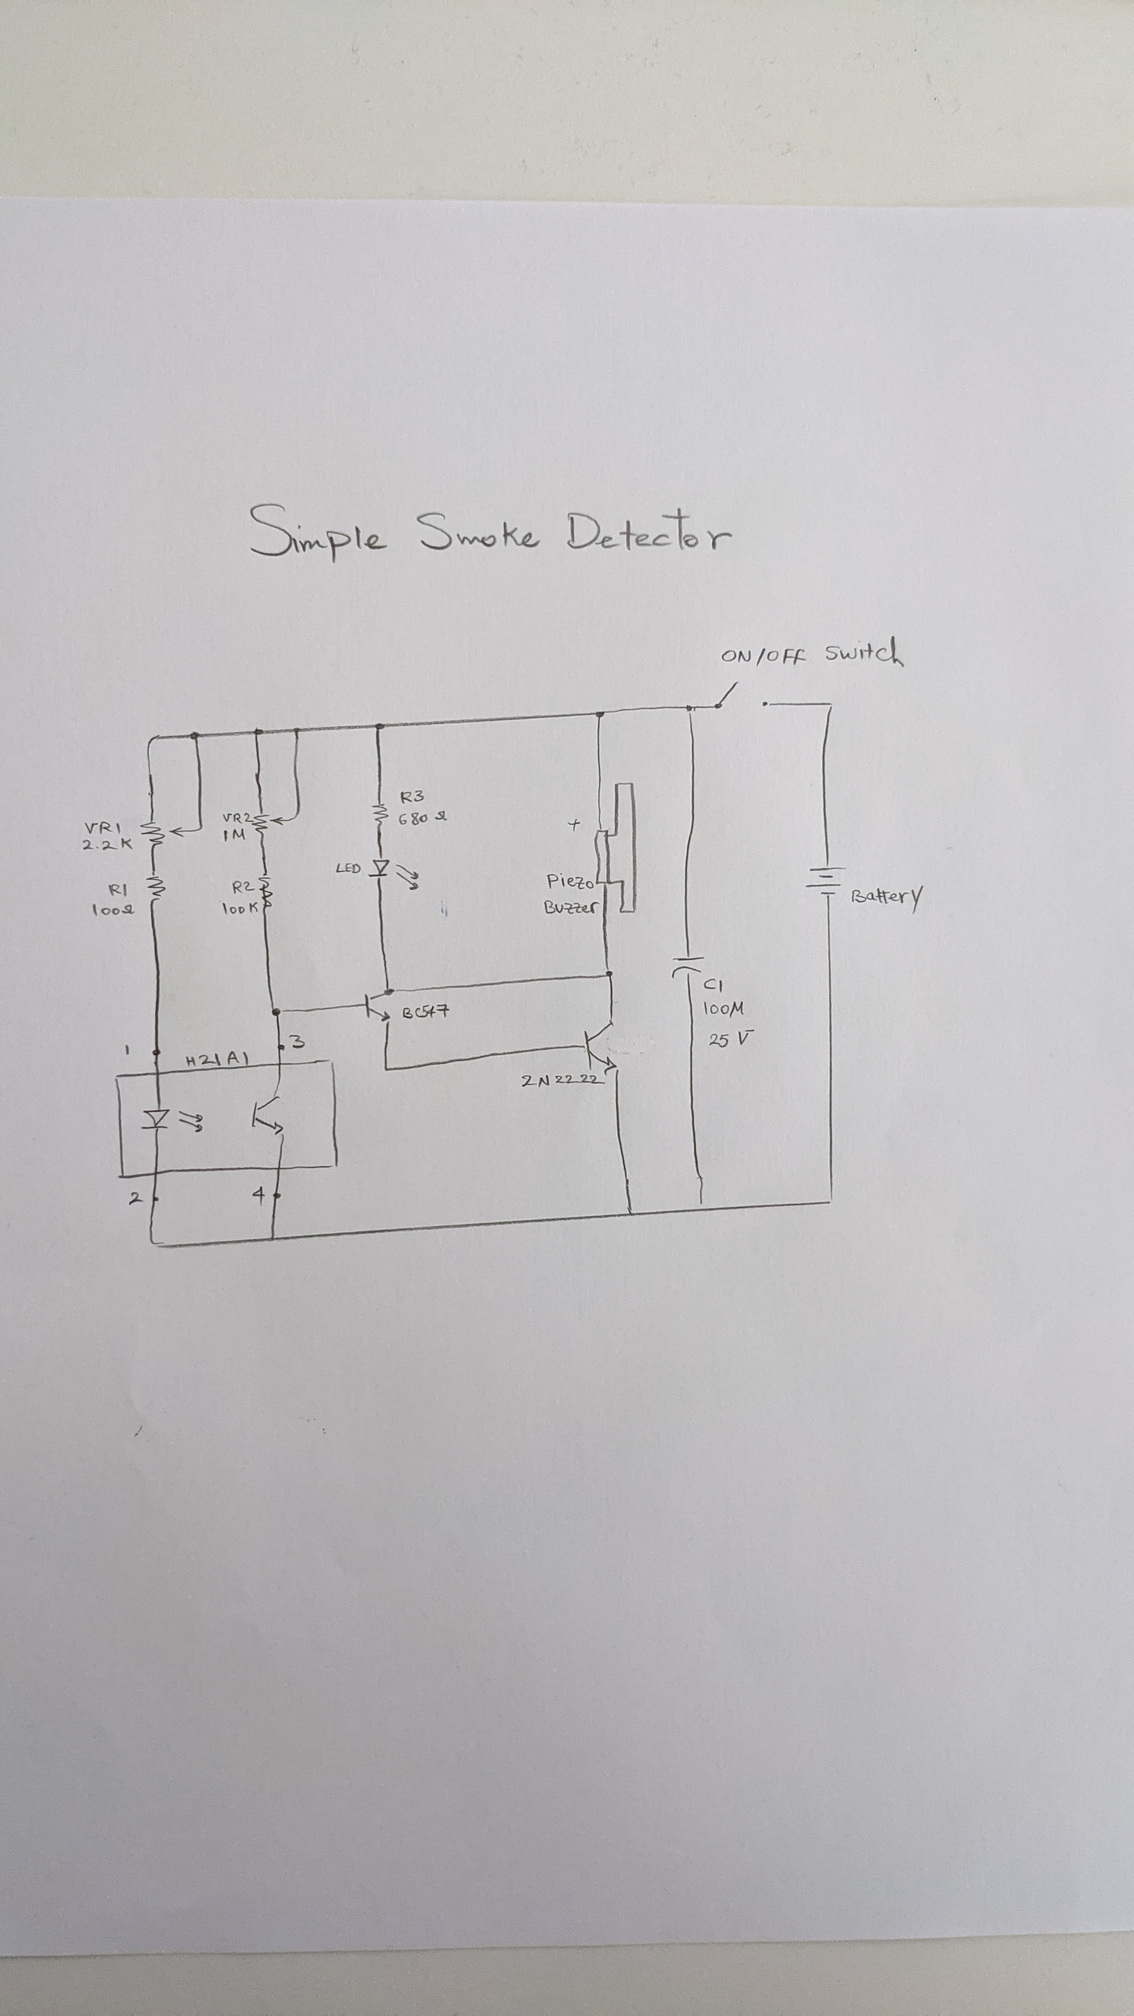capacitor.unpolarized: (667, 954, 708, 982)
diode.light_emitting: (366, 853, 420, 893)
integrated_circuit: (111, 1056, 342, 1182)
junction: (147, 1235, 168, 1252), (145, 732, 162, 748), (694, 1199, 709, 1216), (623, 1205, 640, 1218), (269, 1005, 287, 1018), (602, 965, 616, 980), (372, 720, 388, 732), (291, 809, 303, 822), (683, 703, 698, 714), (188, 730, 204, 741), (252, 726, 267, 737), (825, 1192, 836, 1207), (267, 1232, 280, 1245), (824, 699, 836, 712), (593, 709, 606, 720), (291, 726, 303, 737), (381, 1063, 392, 1076), (197, 824, 205, 834)
optocoupler: (138, 1086, 288, 1138)
resistor: (143, 868, 168, 907), (256, 871, 276, 912), (370, 800, 390, 828)
resistor.adjustable: (137, 818, 186, 849), (251, 810, 287, 836)
speaker: (593, 780, 641, 917)
switch: (712, 678, 775, 712)
text: (245, 500, 735, 565), (720, 634, 907, 672), (850, 883, 925, 914), (521, 1072, 606, 1090), (181, 1048, 251, 1068), (541, 897, 600, 918), (544, 870, 595, 892), (708, 1027, 755, 1050), (400, 1001, 451, 1020), (397, 809, 449, 827), (702, 1000, 746, 1020), (80, 836, 133, 852), (90, 900, 136, 917), (220, 899, 260, 917), (83, 820, 125, 836), (397, 788, 426, 804), (334, 860, 363, 876), (107, 881, 132, 899), (231, 878, 256, 896), (222, 827, 248, 843), (222, 811, 255, 824), (287, 1032, 307, 1051), (702, 978, 726, 994), (251, 1184, 267, 1207), (127, 1189, 145, 1207), (123, 1041, 132, 1056)
transistor: (580, 1015, 624, 1076), (361, 984, 400, 1026)
voltage.dc: (803, 863, 847, 899)
